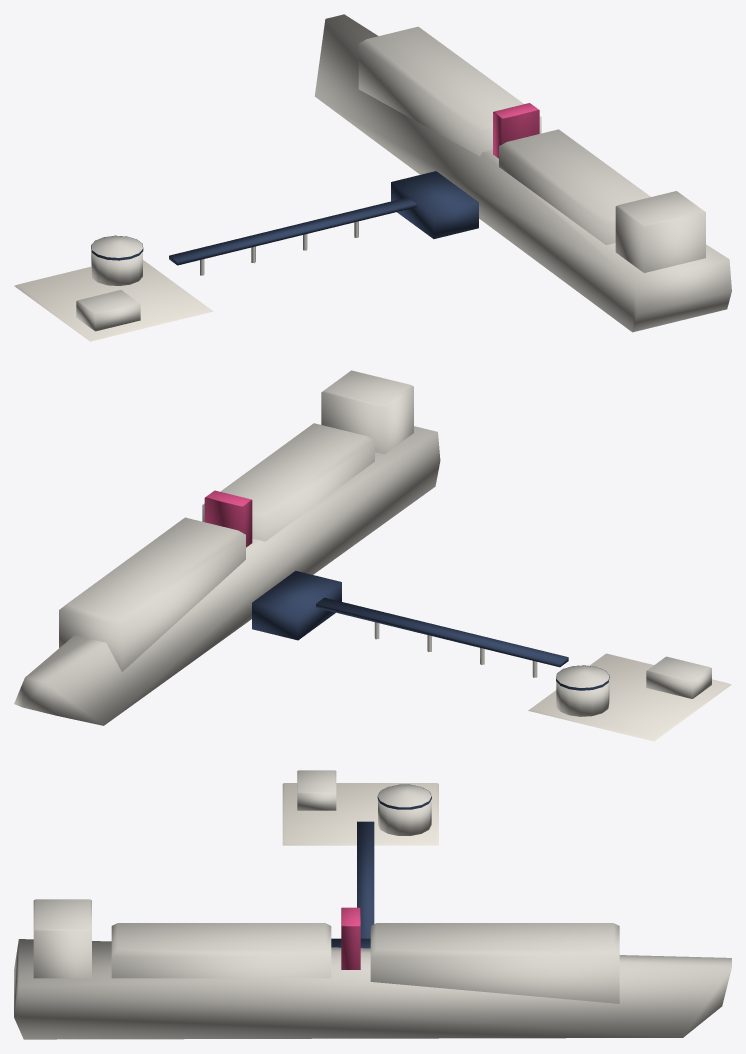
The model's file is terminal-gnl.glb.
3 renders of one model, top to bottom at view 1: azimuth 30°, elevation 25°; view 2: azimuth 150°, elevation 25°; view 3: azimuth 270°, elevation 25°, orthographic. The views are drawn at different scales.
Visible parts, largest first — view 1: terminal-gnl; view 2: terminal-gnl; view 3: terminal-gnl.
Boxes of the visible parts, bbox=[...] form: terminal-gnl: bbox=[14, 14, 731, 341]; terminal-gnl: bbox=[14, 370, 731, 741]; terminal-gnl: bbox=[14, 770, 731, 1039].
Bounding box in the file's own units: 248 × 46 × 294.
